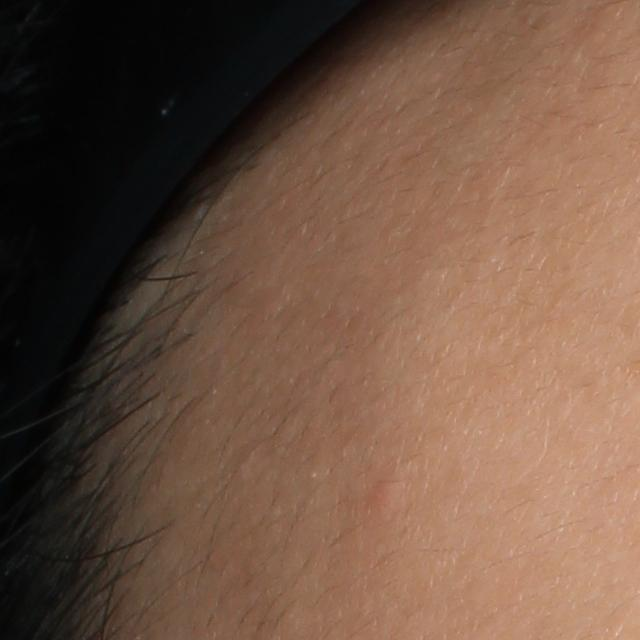papule: (369, 475, 401, 509)
